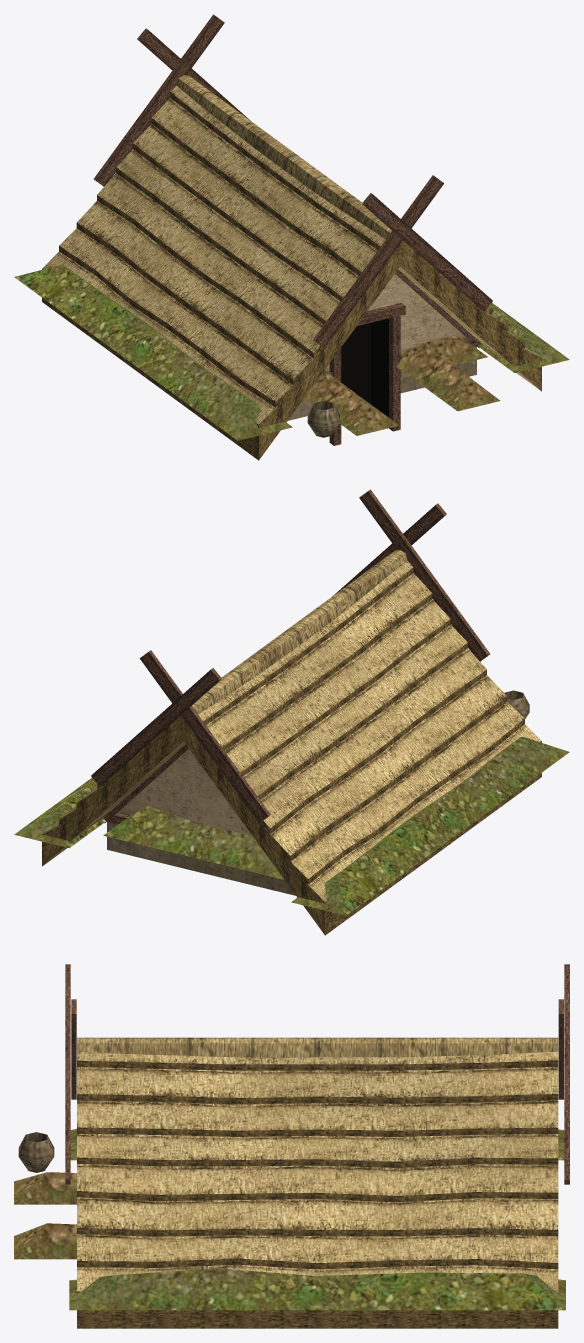
The model's file is zemnice.glb.
3 views of the same model, one above another, from view 1: azimuth 30°, elevation 25°; view 2: azimuth 150°, elevation 25°; view 3: azimuth 270°, elevation 25° (orthographic). The views are drawn at different scales.
Visible parts, largest first — view 1: zemnice; view 2: zemnice; view 3: zemnice.
Part boxes in pixels (x1,y1,x2,y2): zemnice: (14,14,569,460); zemnice: (14,489,569,935); zemnice: (14,964,569,1328).
Size of the model in its own units: 5.4 by 4.34 by 7.05.
Materials: 1 (1 with a texture image).
